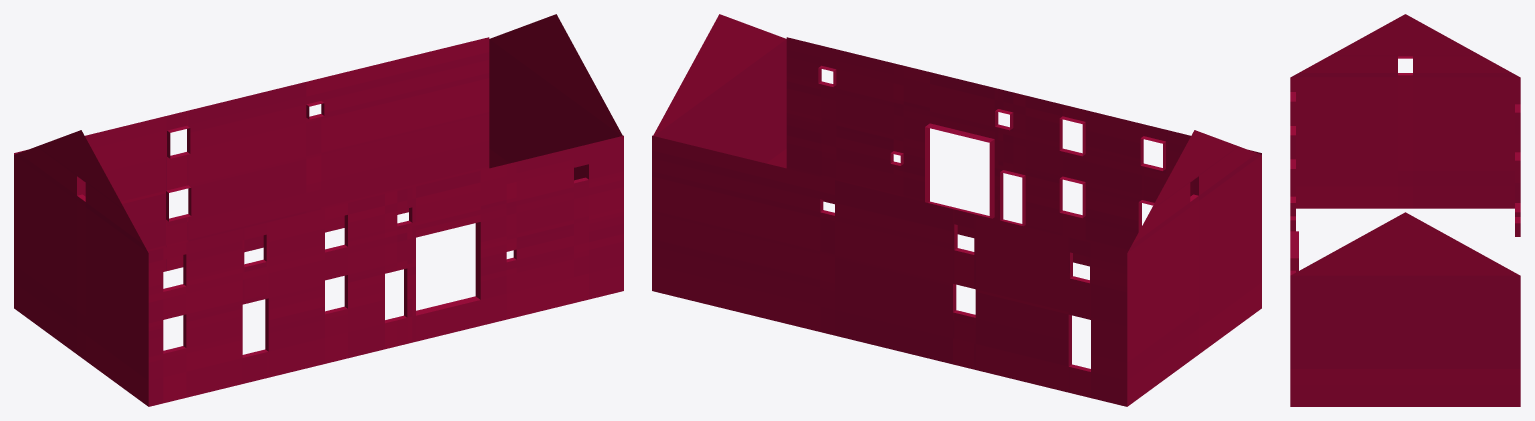
Rendered from SM_Bld_116_Masonry.glb.
3 views of the same model, side by side, from view 1: azimuth 30°, elevation 25°; view 2: azimuth 150°, elevation 25°; view 3: azimuth 270°, elevation 25° (orthographic). The views are drawn at different scales.
Parts seen in each view (by area): view 1: SM_Bld_116_Masonry; view 2: SM_Bld_116_Masonry; view 3: SM_Bld_116_Masonry.
Part boxes in pixels (left/top/right/bottom): SM_Bld_116_Masonry: left=14, top=14, right=623, bottom=406; SM_Bld_116_Masonry: left=652, top=14, right=1261, bottom=406; SM_Bld_116_Masonry: left=1290, top=14, right=1520, bottom=406.
Bounding box in the file's own units: 19.1 × 8.75 × 9.37.
